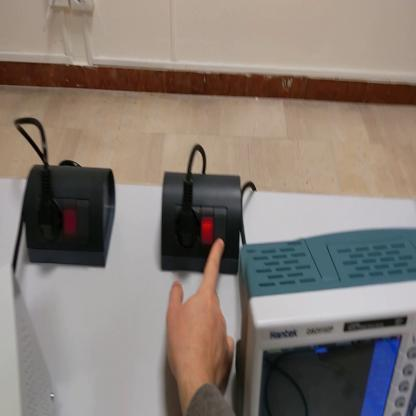hand: (166, 240, 234, 391)
oscilloscope: (240, 226, 416, 416)
socket: (22, 159, 117, 271), (162, 171, 247, 283)
